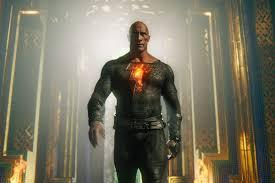Persons: (121, 17, 156, 59)
